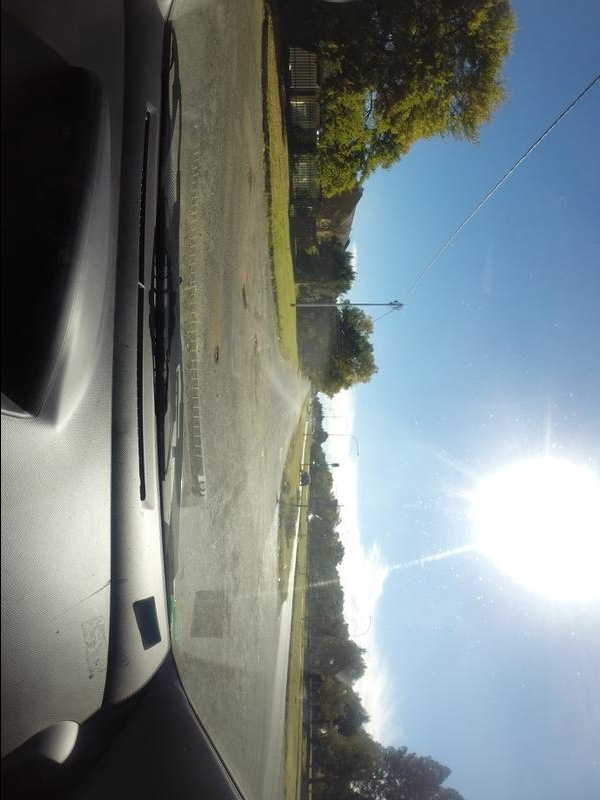pothole: (242, 164, 256, 204), (236, 281, 247, 320), (213, 344, 221, 371)
